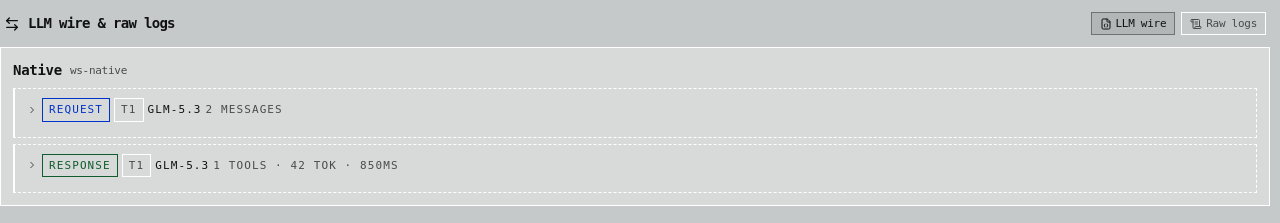
Test case: LogsDiff › toggles to the raw-events view and renders one line per event
Click the button "Raw logs" at (1224,24), box [1181, 12, 1266, 35]
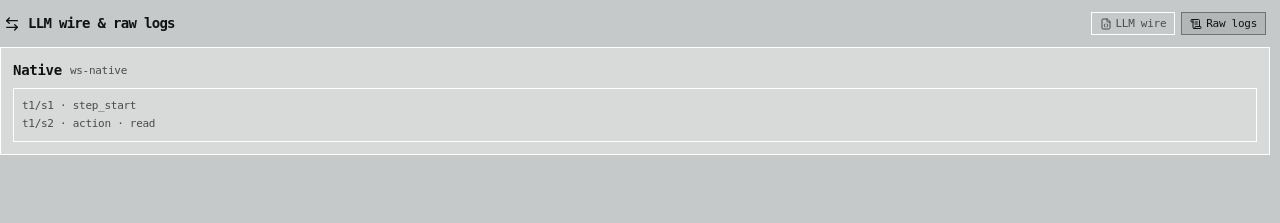
Expected: the text "t1/s1 · step_start t1/s2 · action · read" is shown, [13, 88, 1257, 142]
